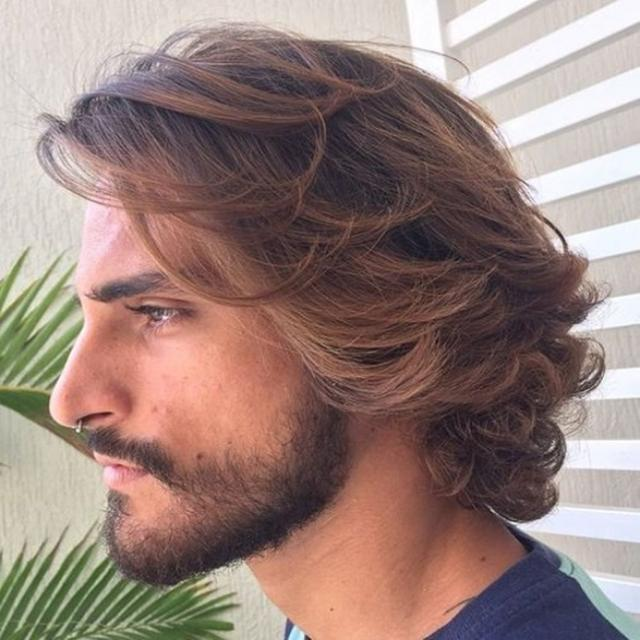Nonhelmet: (28, 16, 613, 589)
